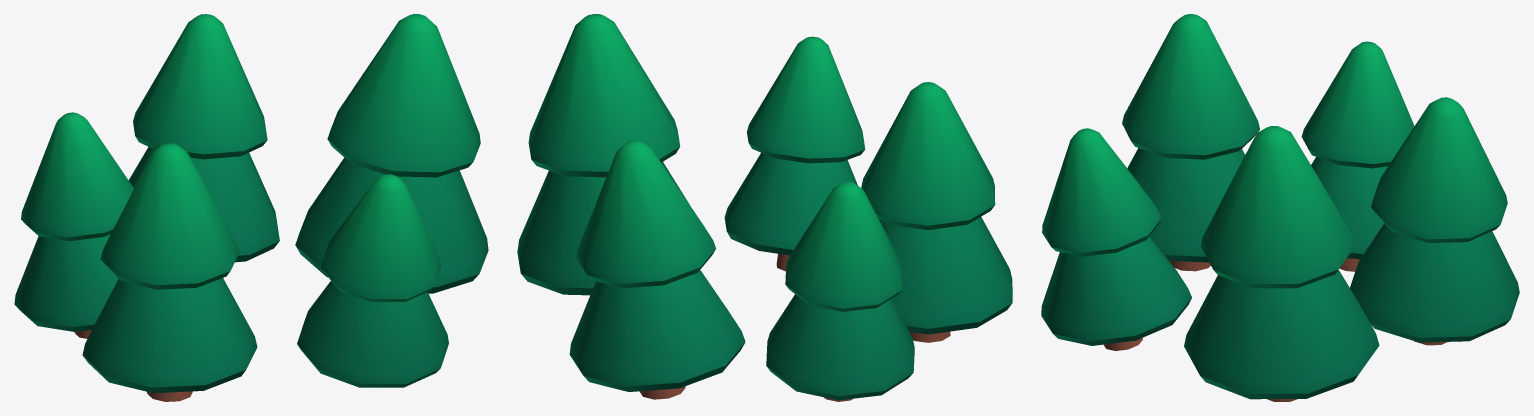
File: trees_b_medium.glb
The picture shows the model from 3 angles, left to right: view 1: azimuth 30°, elevation 25°; view 2: azimuth 150°, elevation 25°; view 3: azimuth 270°, elevation 25°; orthographic projection.
Visible parts, largest first — view 1: trees_B_medium; view 2: trees_B_medium; view 3: trees_B_medium.
Part boxes in pixels (x1,y1,x2,y2): trees_B_medium: (14, 14, 488, 401); trees_B_medium: (517, 14, 1012, 401); trees_B_medium: (1041, 14, 1519, 401).
Size of the model in its own units: 1.86 by 1.17 by 1.83.
1 material, 1 textured.
